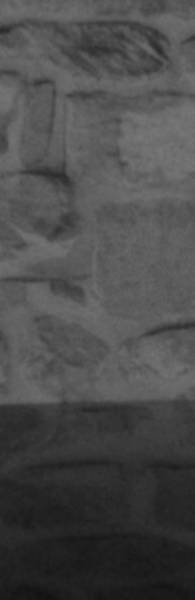water: (0, 403, 195, 600)
